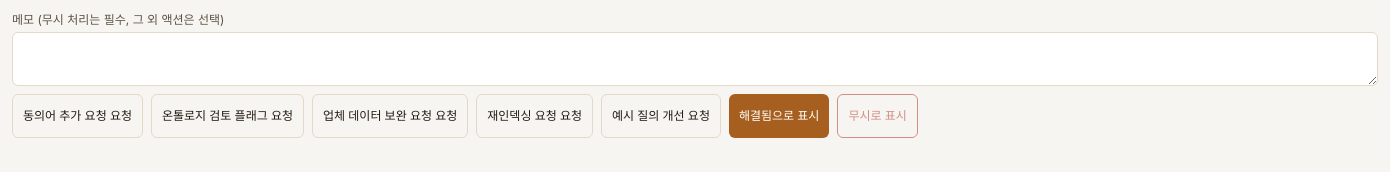
Test: ActionAffordances (action affordances UI) › disables the ignore action until a note is entered, then enables it
Expected: the button "무시로 표시" is disabled, [837,94,918,138]
Type "중복 질의" into the text box named "개선 액션 메모" at (695, 59), box [12,32,1378,86]
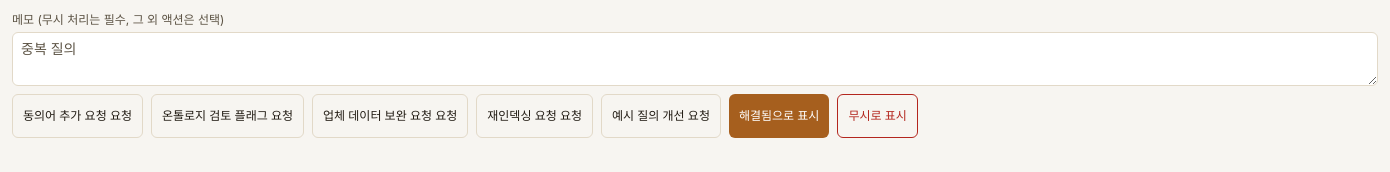
Expected: the button "무시로 표시" is enabled, [837,94,918,138]
